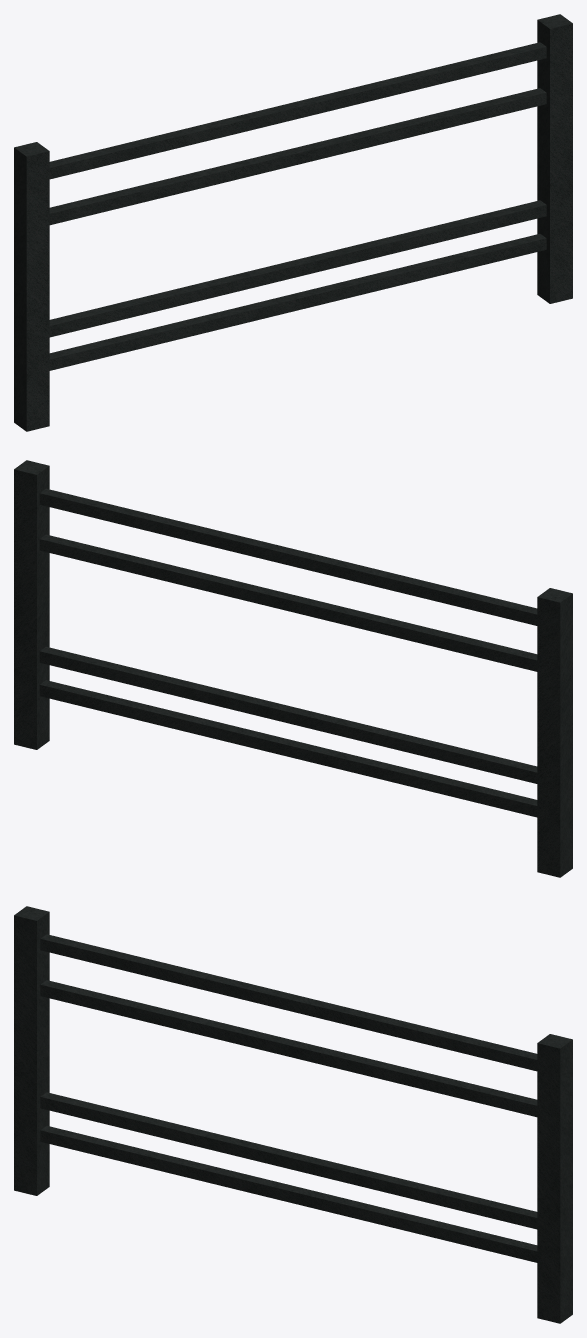
The model's file is Baranda.fbx.
The picture shows the model from 3 angles, top to bottom: view 1: azimuth 30°, elevation 25°; view 2: azimuth 150°, elevation 25°; view 3: azimuth 330°, elevation 25°; orthographic projection.
Visible parts, largest first — view 1: Baranda; view 2: Baranda; view 3: Baranda.
Boxes of the visible parts, x1,y1,x2,y2 form: Baranda: [14, 14, 572, 431]; Baranda: [14, 460, 572, 877]; Baranda: [14, 906, 572, 1323].
Size of the model in its own units: 197 by 94.6 by 7.89.
